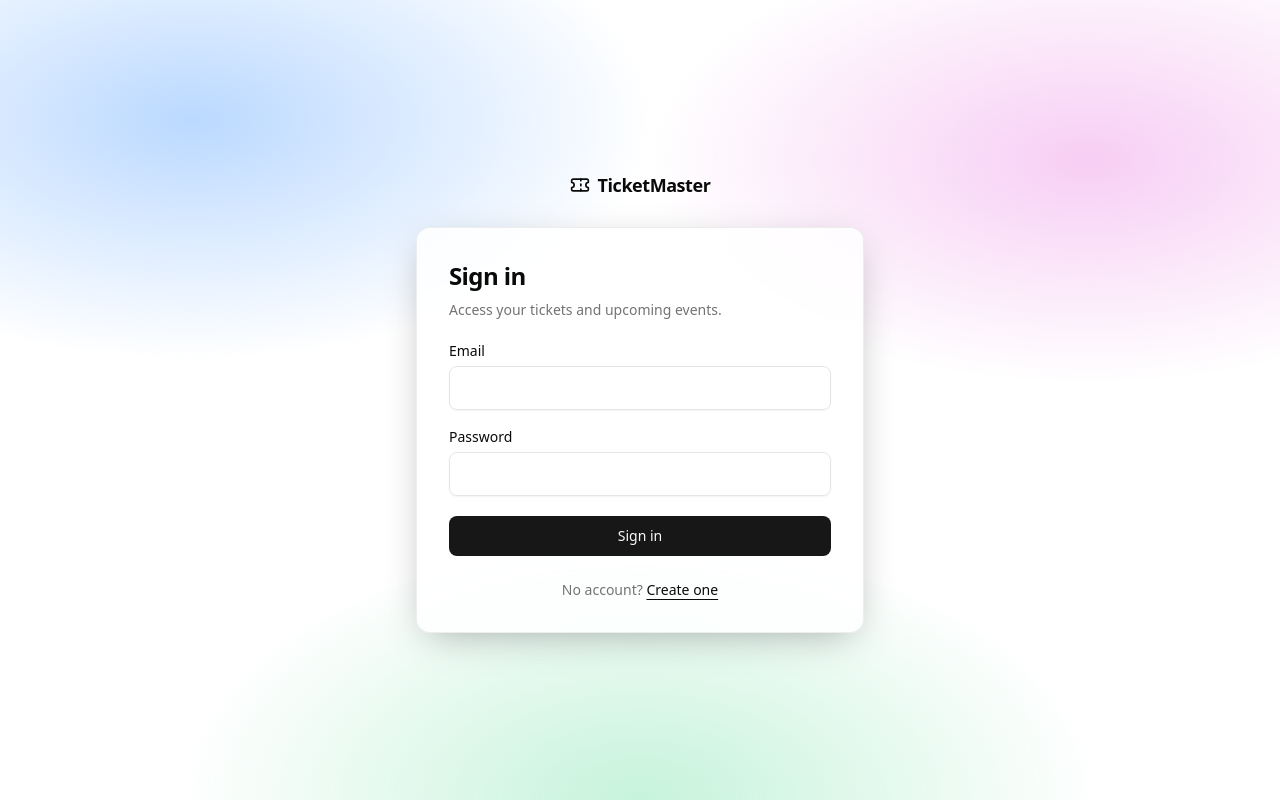
Test: LoginPage error messaging › shows one generic message on 401, regardless of the real cause
Type "test@example.com" into the field labelled "Email".
click(640, 388); type("test@example.com")  # box [449,366,831,410]
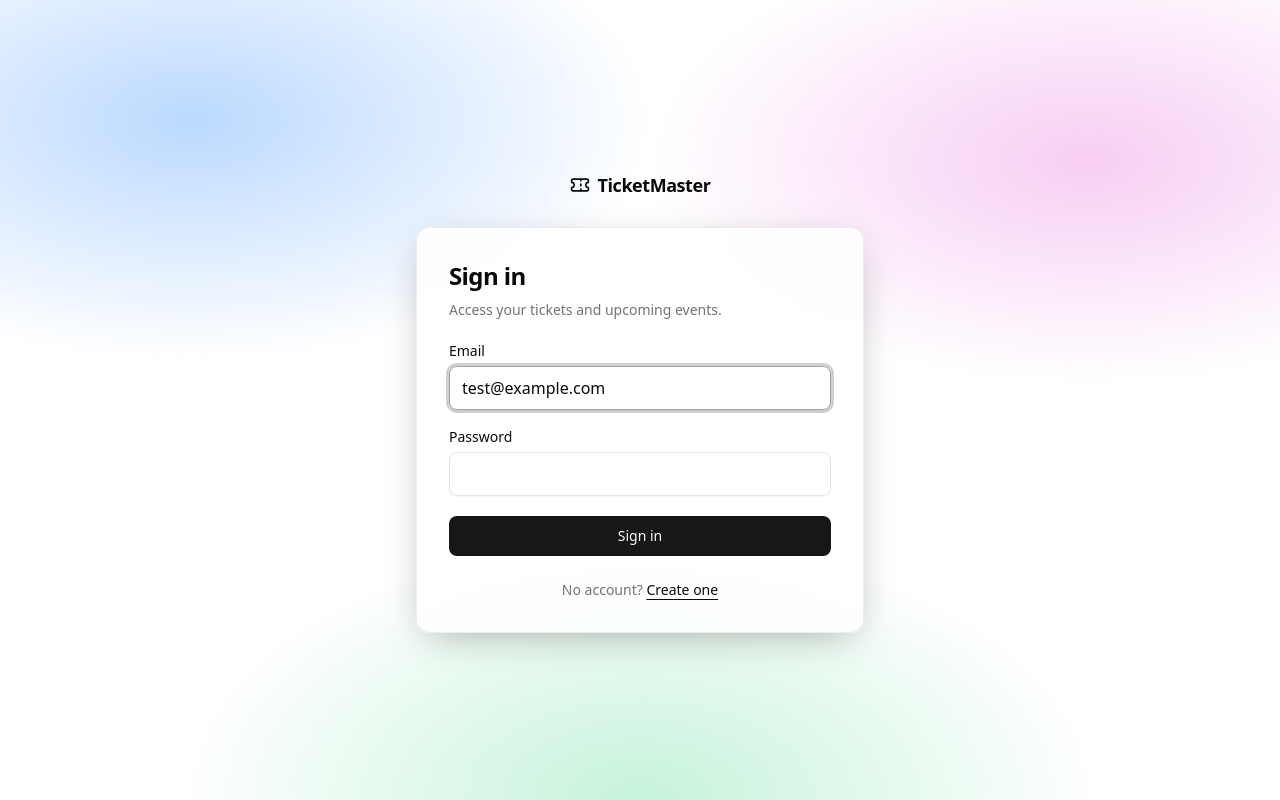
Type "correct-horse-battery" into the password field labelled "Password".
click(640, 474); type("correct-horse-battery")  # box [449,452,831,496]
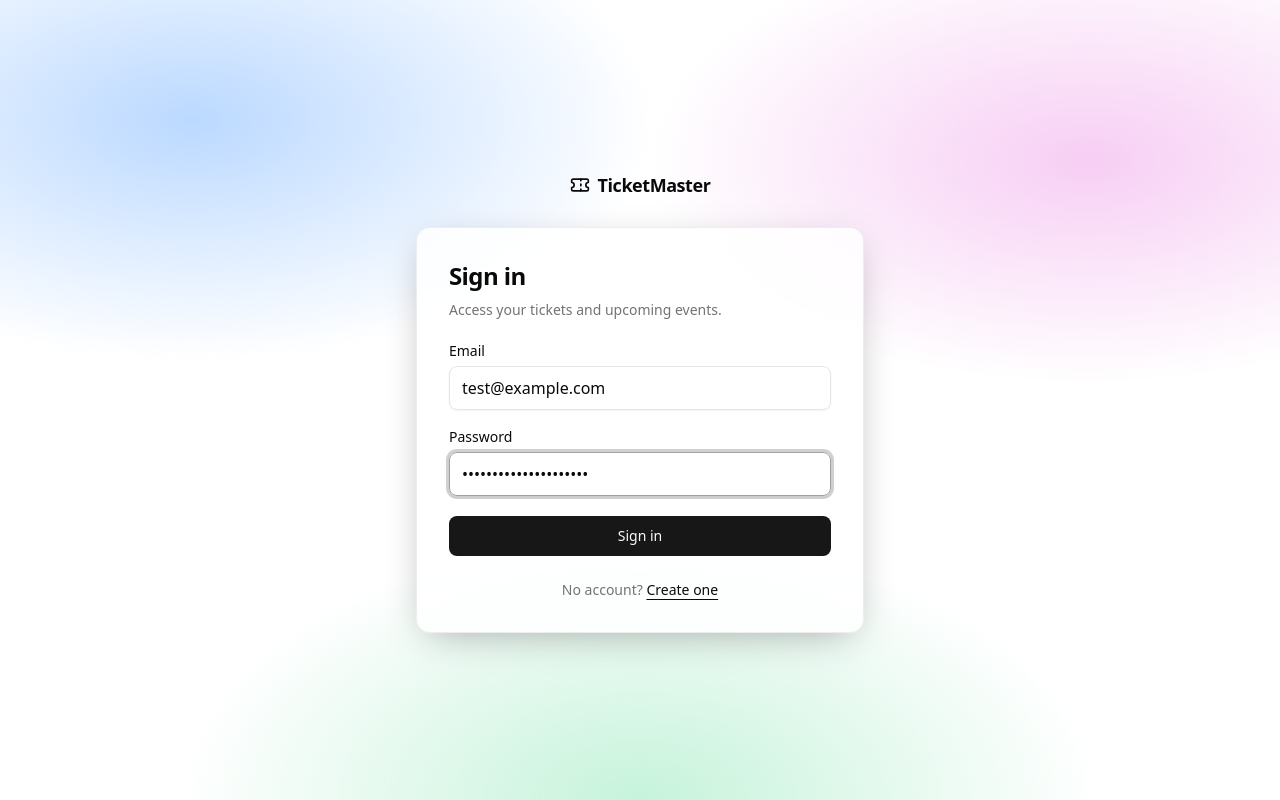
Click the button "Sign in".
click(640, 536)  # box [449,516,831,556]
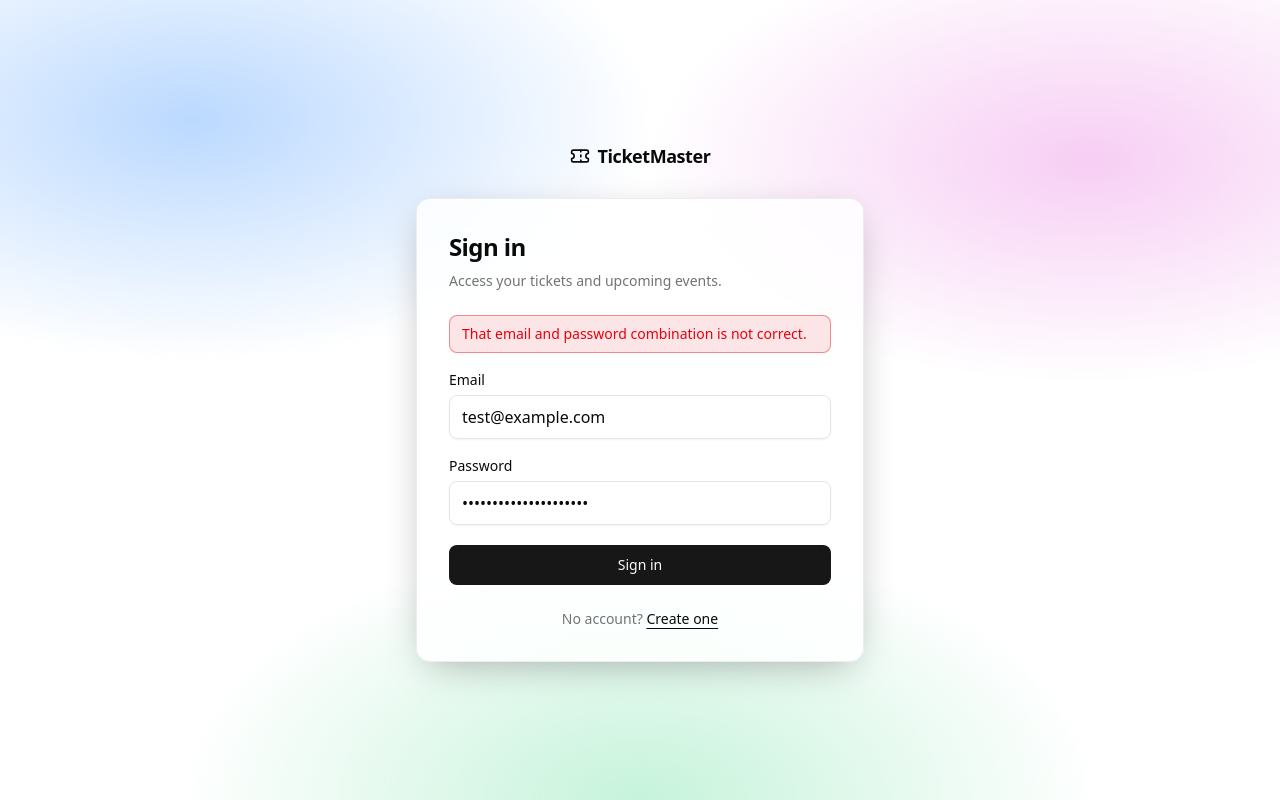
Expected: the message reads "That email and password combination is not correct.", [462,324,807,343]
